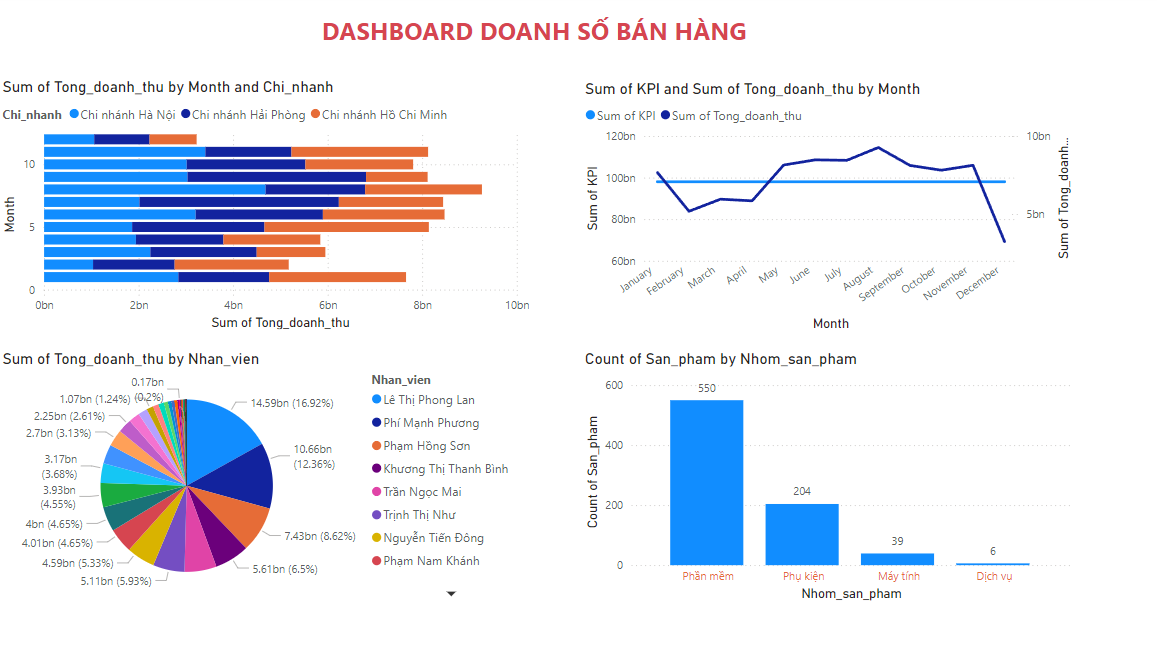

The dashboard page shown, as its layout file describes it:
{"tool":"powerbi","page":{"name":"Page 1","canvas":[1280,720],"ordinal":0},"visuals":[{"type":"barChart","fields":{"Y":["Sum(bai_test my_first_dbt_model.Tong_doanh_thu)"],"Series":["bai_test my_first_dbt_model.Chi_nhanh"],"Category":["bai_test my_first_dbt_model.Month"]},"box":[0,91.9,588.7,281.3],"z":0},{"type":"pieChart","fields":{"Y":["Sum(bai_test my_second_dbt_model.Tong_doanh_thu)"],"Category":["bai_test my_second_dbt_model.Nhan_vien"]},"box":[0,389.7,588.7,281.3],"z":1},{"type":"lineChart","fields":{"Y":["Sum(bai_test kpi_theo_nam.KPI)"],"Y2":["Sum(bai_test my_second_dbt_model.Tong_doanh_thu)"],"Category":["bai_test my_second_dbt_model.thang.Variation.Date Hierarchy.Month"]},"box":[639.5,93.3,543.4,281.3],"z":2},{"type":"clusteredColumnChart","fields":{"Y":["CountNonNull(bai_test san_pham.San_pham)"],"Category":["bai_test san_pham.Nhom_san_pham"]},"box":[639.5,389.7,543.4,281.3],"z":3},{"type":"textbox","box":[53.5,16.5,1070.3,46.7],"z":5}]}

Visuals, with their boxes in screenshot pixels (x1, y1, x2, y2), scaled from the page's 1280x720 canvas onto the 1157x647 screenshot:
barChart - Sum(bai_test my_first_dbt_model.Tong_doanh_thu) x bai_test my_first_dbt_model.Chi_nhanh: box=[0, 83, 532, 335]
pieChart - Sum(bai_test my_second_dbt_model.Tong_doanh_thu) x bai_test my_second_dbt_model.Nhan_vien: box=[0, 350, 532, 603]
lineChart - Sum(bai_test kpi_theo_nam.KPI) x Sum(bai_test my_second_dbt_model.Tong_doanh_thu): box=[578, 84, 1069, 337]
clusteredColumnChart - CountNonNull(bai_test san_pham.San_pham) x bai_test san_pham.Nhom_san_pham: box=[578, 350, 1069, 603]
textbox: box=[48, 15, 1016, 57]
